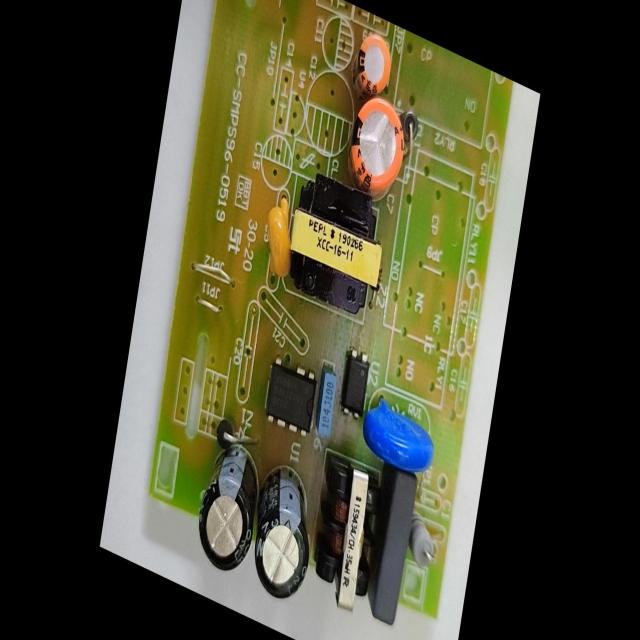Cap1: (340, 81, 414, 209)
Cap2: (345, 21, 399, 105)
Cap3: (243, 451, 322, 619)
Cap4: (190, 422, 267, 587)
MOSFET: (261, 346, 321, 448)
Mov: (356, 388, 441, 488)
Resistor: (403, 503, 442, 577)
Transformer: (282, 163, 392, 329), (305, 444, 387, 624)
